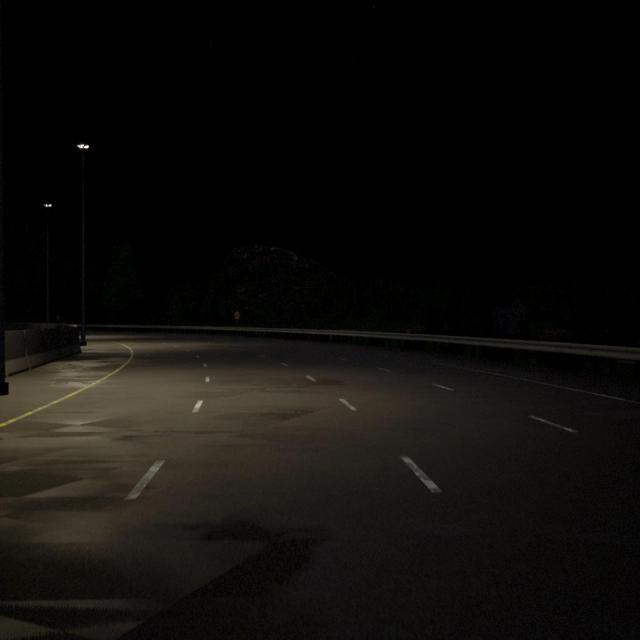Traffic_Signs: (234, 312, 240, 319)
